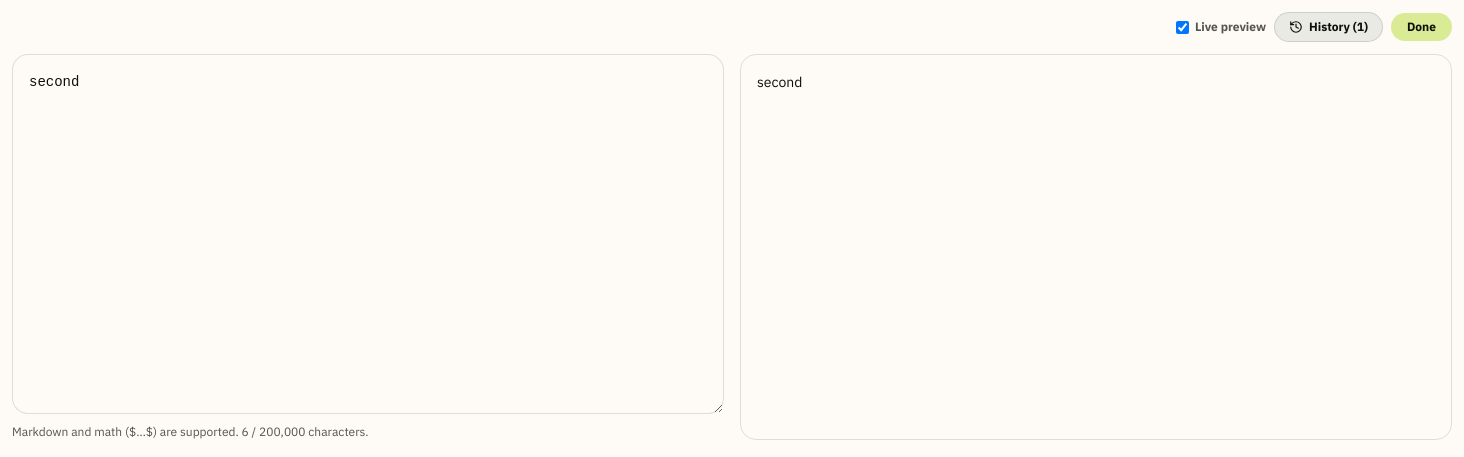
it: SummaryEditor › restores an earlier version and can go back to the AI version
The width and height of the screenshot is (1464, 457).
Click the button "History (1)" at (1329,27), box [1274, 12, 1383, 42]
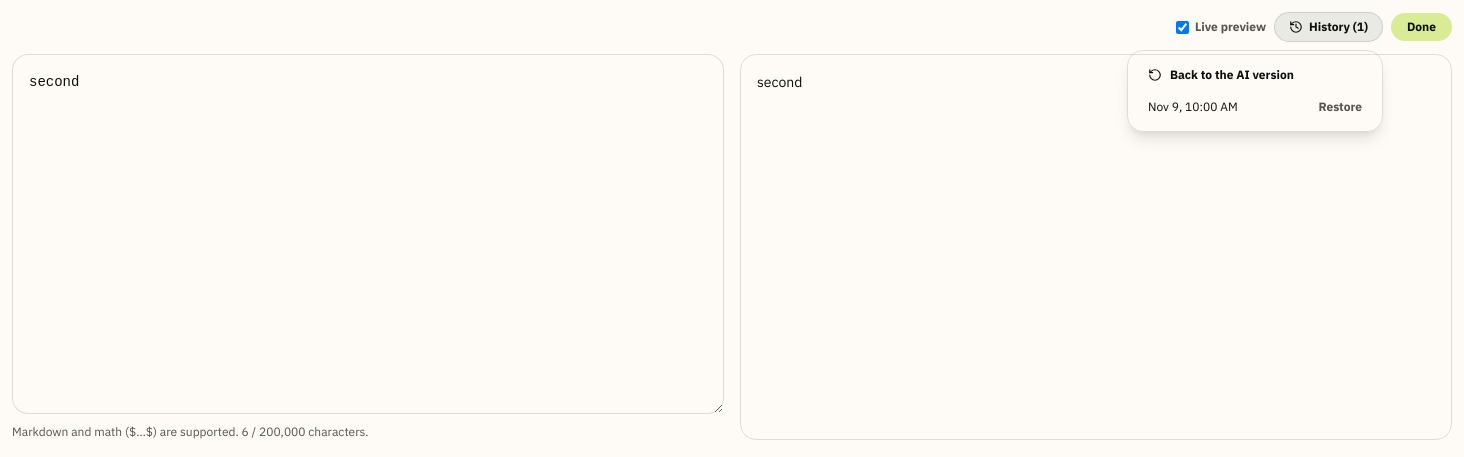
Click the menu item "Nov 9, 10:00 AM Restore" at (1255,107), box [1136, 91, 1374, 123]
Wait 50 ms
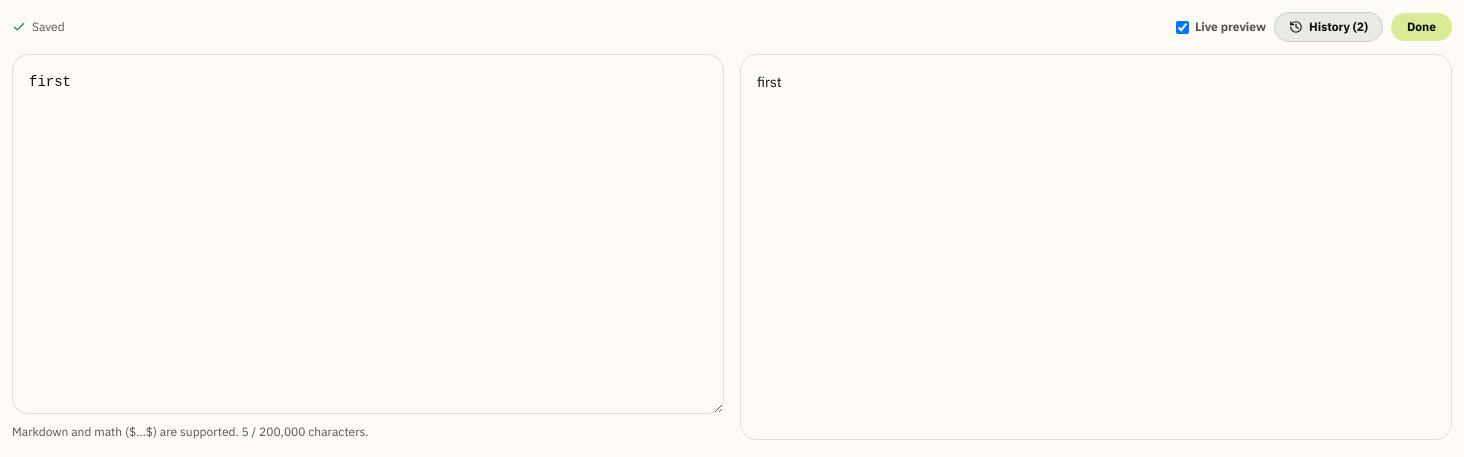
expect the text box with id "summary-editor" holds "first": met, box [12, 54, 724, 414]
Click the button "History (2)" at (1329,27), box [1274, 12, 1383, 42]
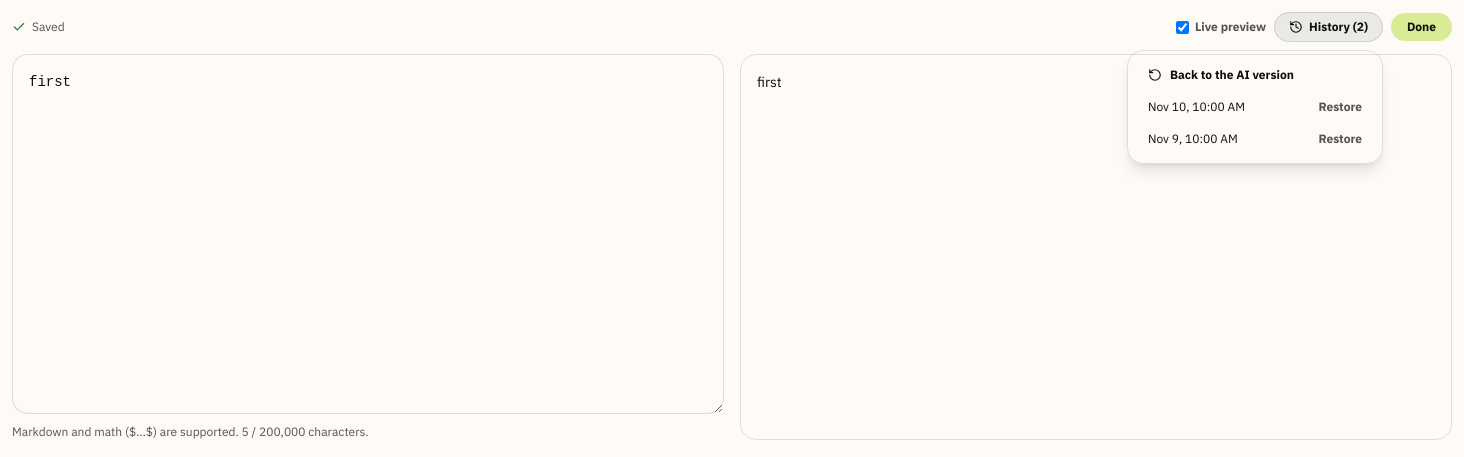
Click the menu item "Back to the AI version" at (1255,75), box [1136, 59, 1374, 91]
Wait 50 ms
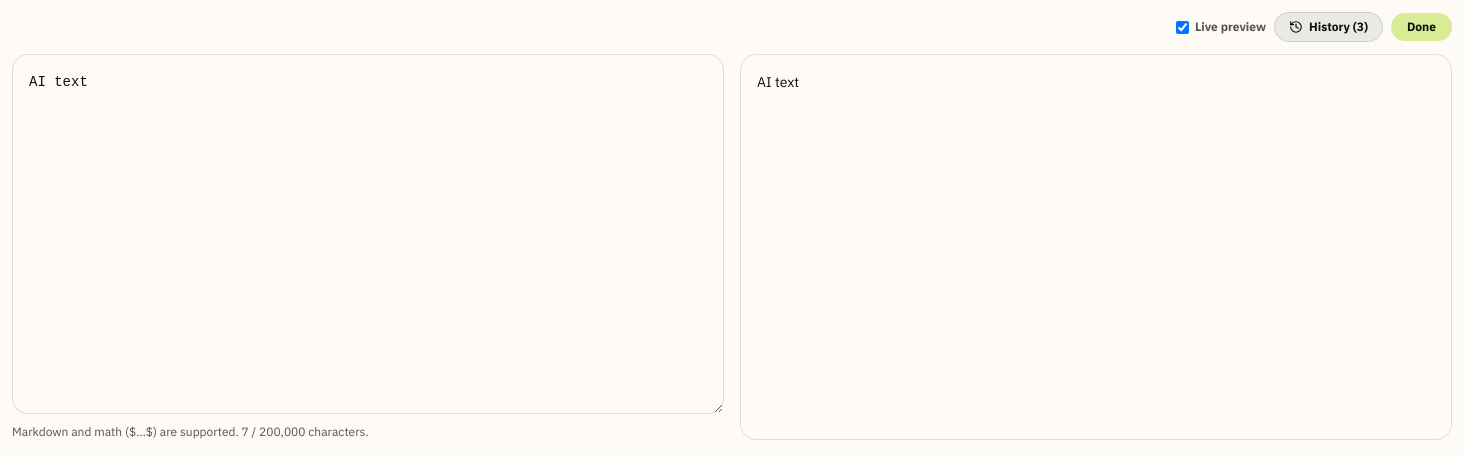
expect the text box with id "summary-editor" holds "AI text": met, box [12, 54, 724, 414]
